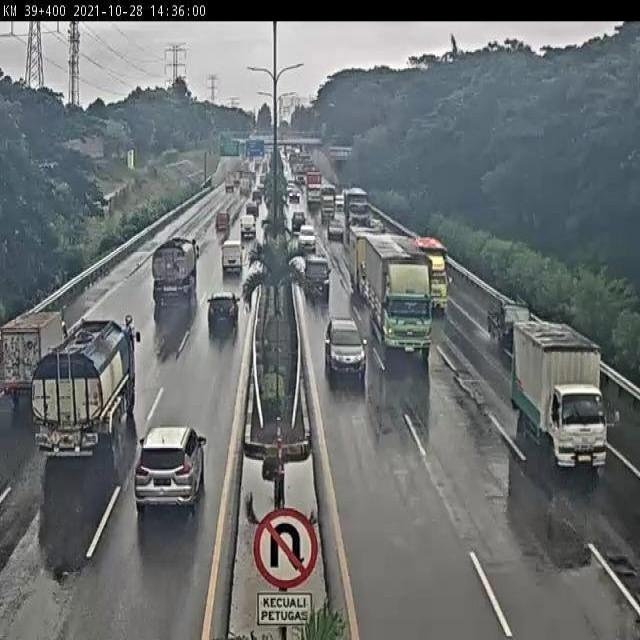big truck: (45, 335, 118, 468), (362, 234, 432, 358), (156, 237, 186, 324), (222, 247, 243, 285)
car: (132, 418, 201, 514), (488, 292, 521, 351), (328, 308, 356, 372), (206, 307, 244, 352), (308, 250, 326, 294), (294, 222, 318, 246), (243, 219, 252, 237)
small truck: (511, 321, 604, 459), (3, 317, 41, 412), (414, 225, 450, 311)
